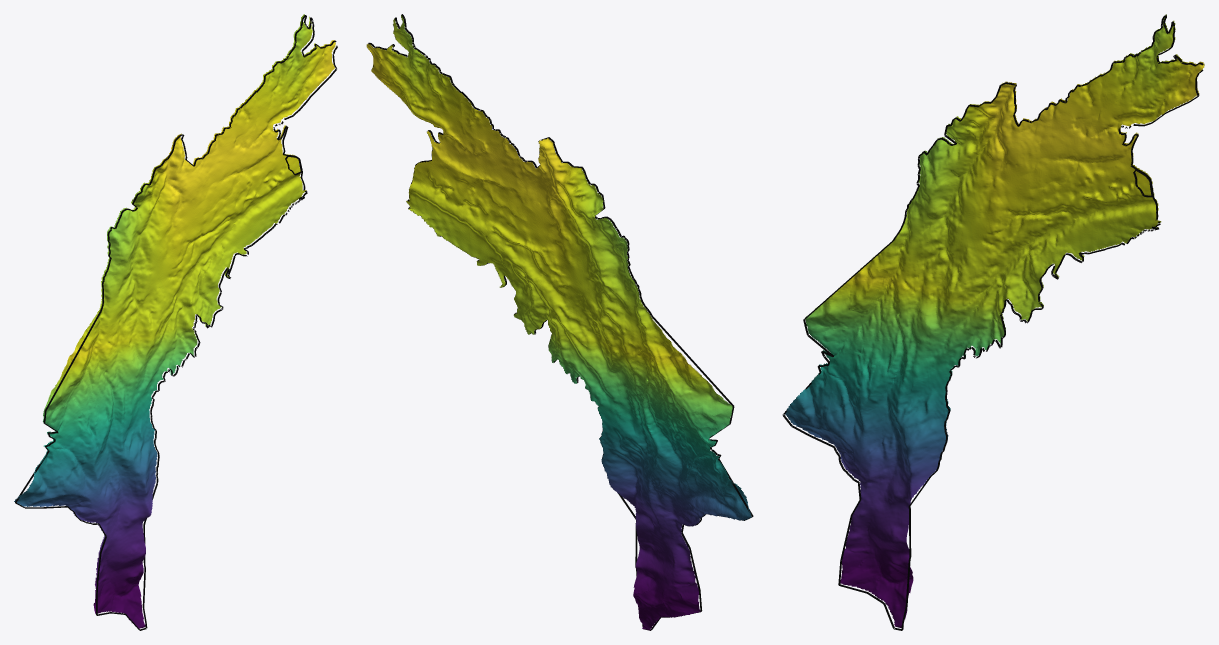
3 renders of one model, left to right at view 1: azimuth 30°, elevation 25°; view 2: azimuth 150°, elevation 25°; view 3: azimuth 330°, elevation 25°, orthographic. The views are drawn at different scales.
Parts seen in each view (by area): view 1: world; view 2: world; view 3: world.
Part boxes in pixels (x1,y1,x2,y2): world: (14, 14, 337, 630); world: (366, 14, 753, 630); world: (782, 14, 1204, 630).
Size of the model in its own units: 12.44 by 19.09 by 2.27.
2 materials, 1 textured.
